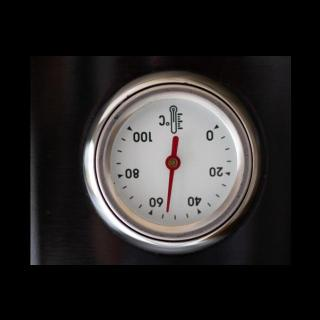gauge: (68, 56, 290, 264), (125, 122, 157, 148), (203, 117, 225, 139), (164, 154, 181, 170), (164, 205, 172, 215)
